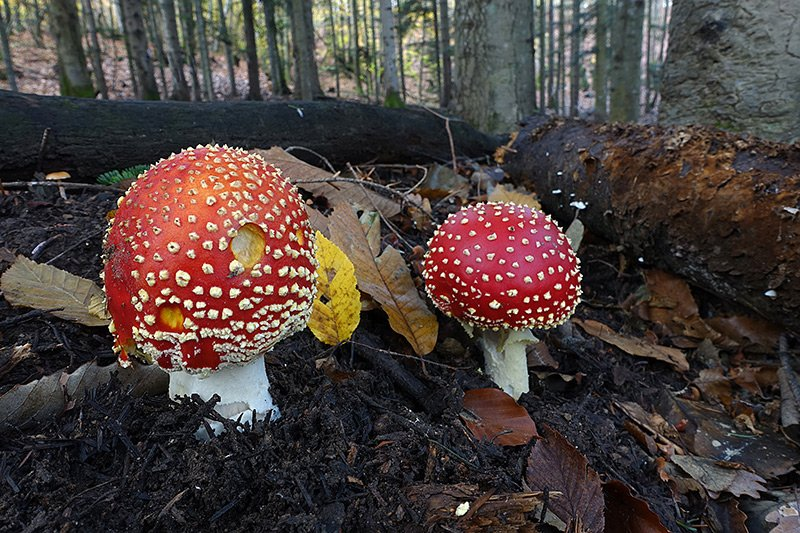bird: (102, 144, 328, 428)
